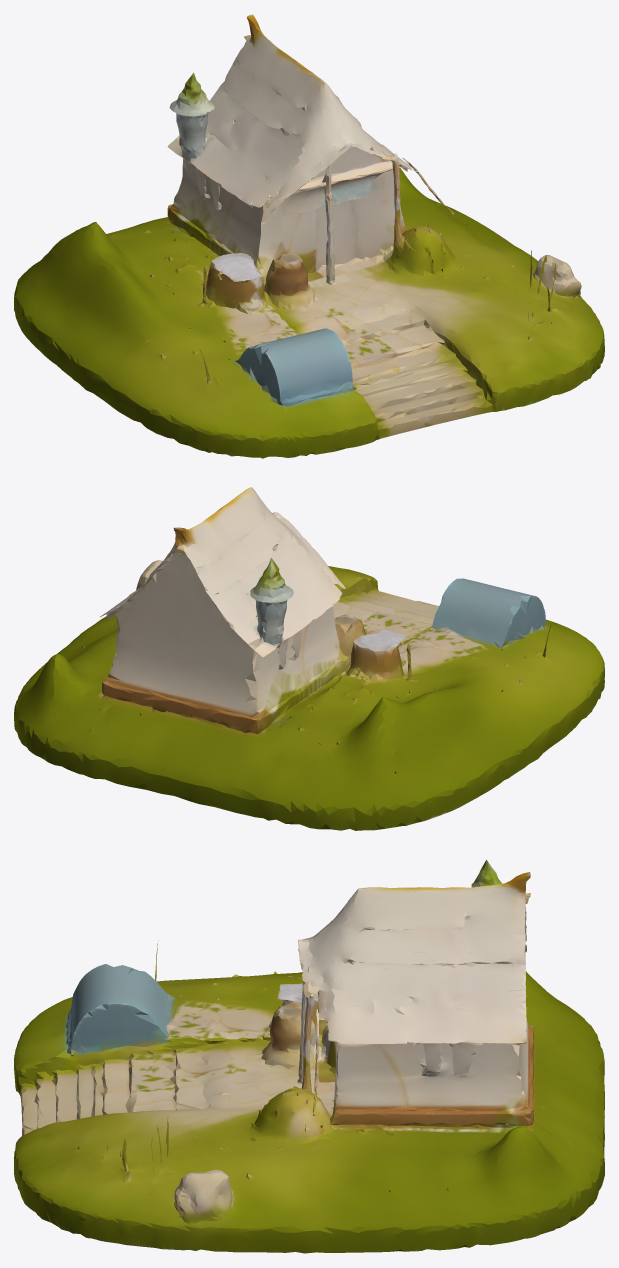
3 renders of one model, top to bottom at view 1: azimuth 30°, elevation 25°; view 2: azimuth 150°, elevation 25°; view 3: azimuth 270°, elevation 25°, orthographic. The views are drawn at different scales.
Visible parts, largest first — view 1: 043; view 2: 043; view 3: 043.
Boxes of the visible parts, left/top/right/bottom form: 043: left=14, top=14, right=604, bottom=458; 043: left=14, top=487, right=604, bottom=830; 043: left=14, top=860, right=604, bottom=1253.
Bounding box in the file's own units: 1.89 × 0.9583 × 1.86.
Materials: 1 (1 with a texture image).
